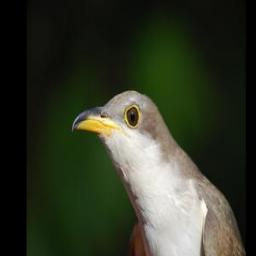Cuckoo: (72, 88, 246, 256)
